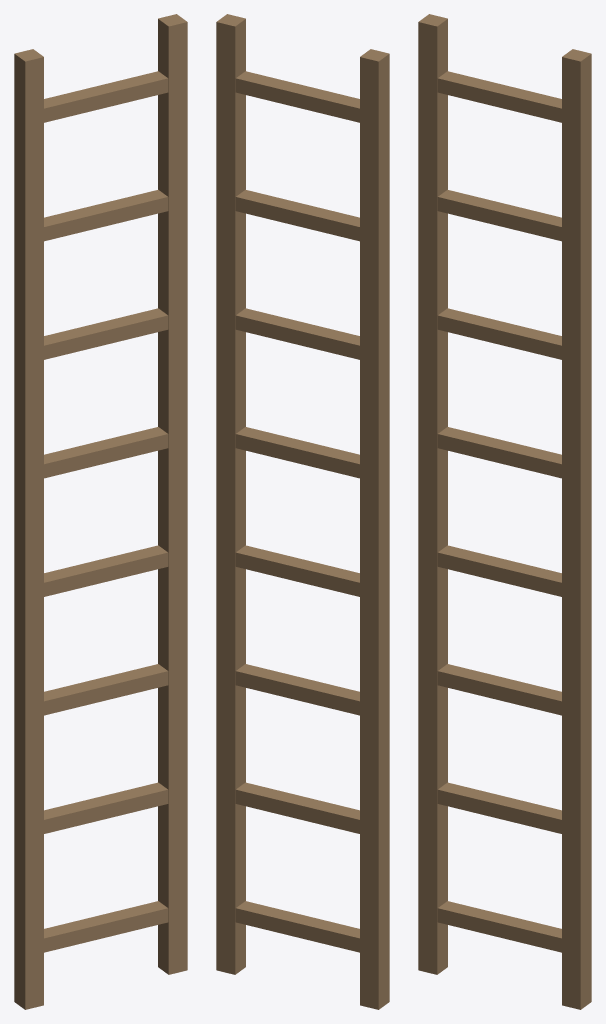
Rendered from work-ladder-8.glb.
3 views of the same model, side by side, from view 1: azimuth 30°, elevation 25°; view 2: azimuth 150°, elevation 25°; view 3: azimuth 330°, elevation 25° (orthographic).
Visible parts, largest first — view 1: work-ladder; view 2: work-ladder; view 3: work-ladder.
Part boxes in pixels (left/top/right/bottom): work-ladder: left=14, top=14, right=187, bottom=1009; work-ladder: left=216, top=14, right=389, bottom=1009; work-ladder: left=418, top=14, right=591, bottom=1009.
Size of the model in its own units: 0.43 by 2.4 by 0.05.
